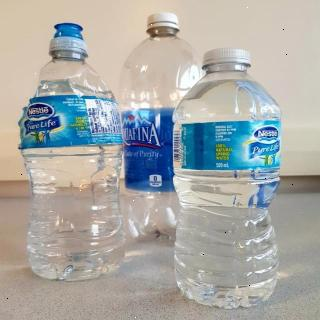Plastic-bottle: (171, 47, 287, 313), (16, 22, 132, 284), (116, 12, 202, 246)
